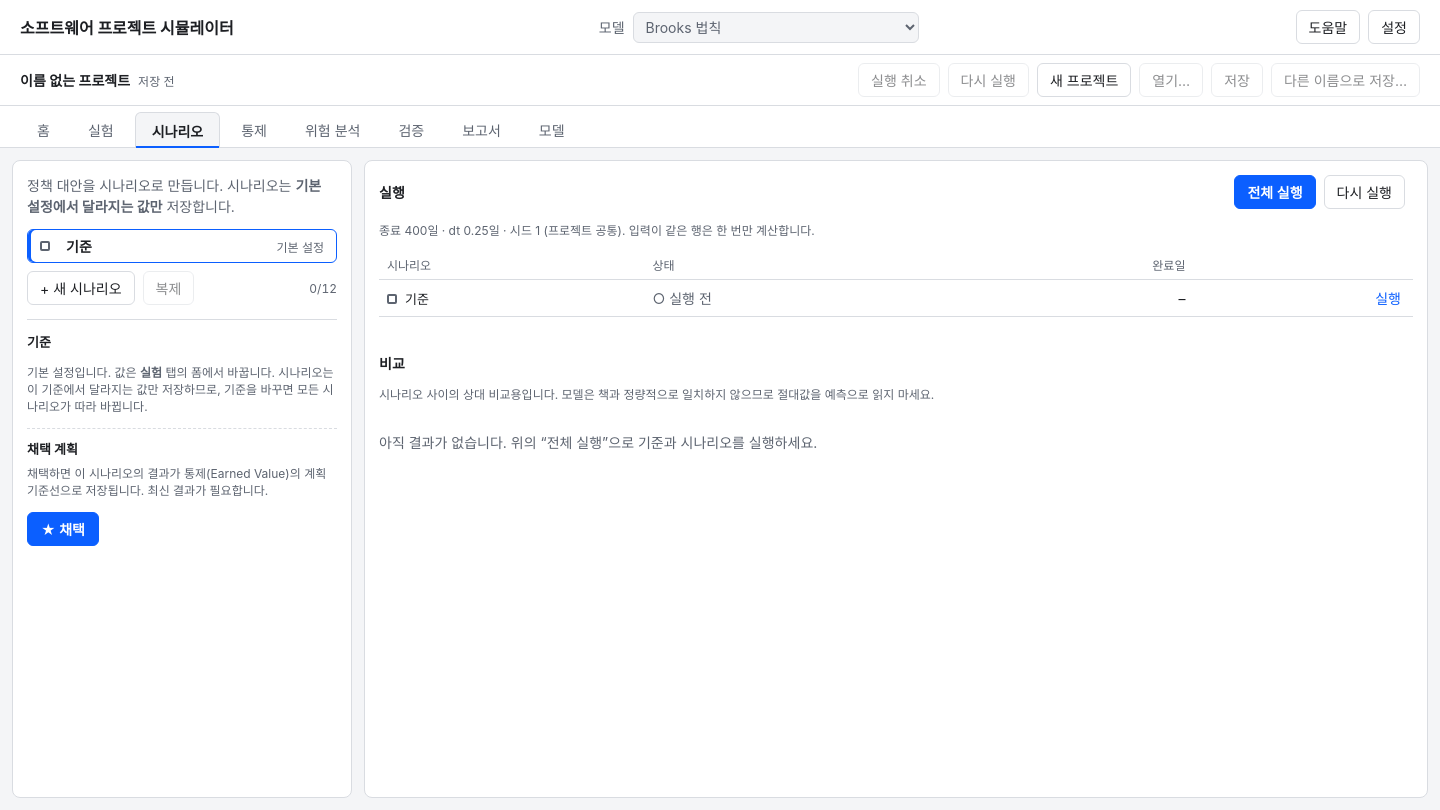
Test case: 모든 탭을 그려 본다 (화면 스모크) › 통제 탭이 오류 없이 그려진다
This screenshot has width=1440, height=810.
Step 1. Click the tab "통제" → (254, 130), box [224,112,284,147]
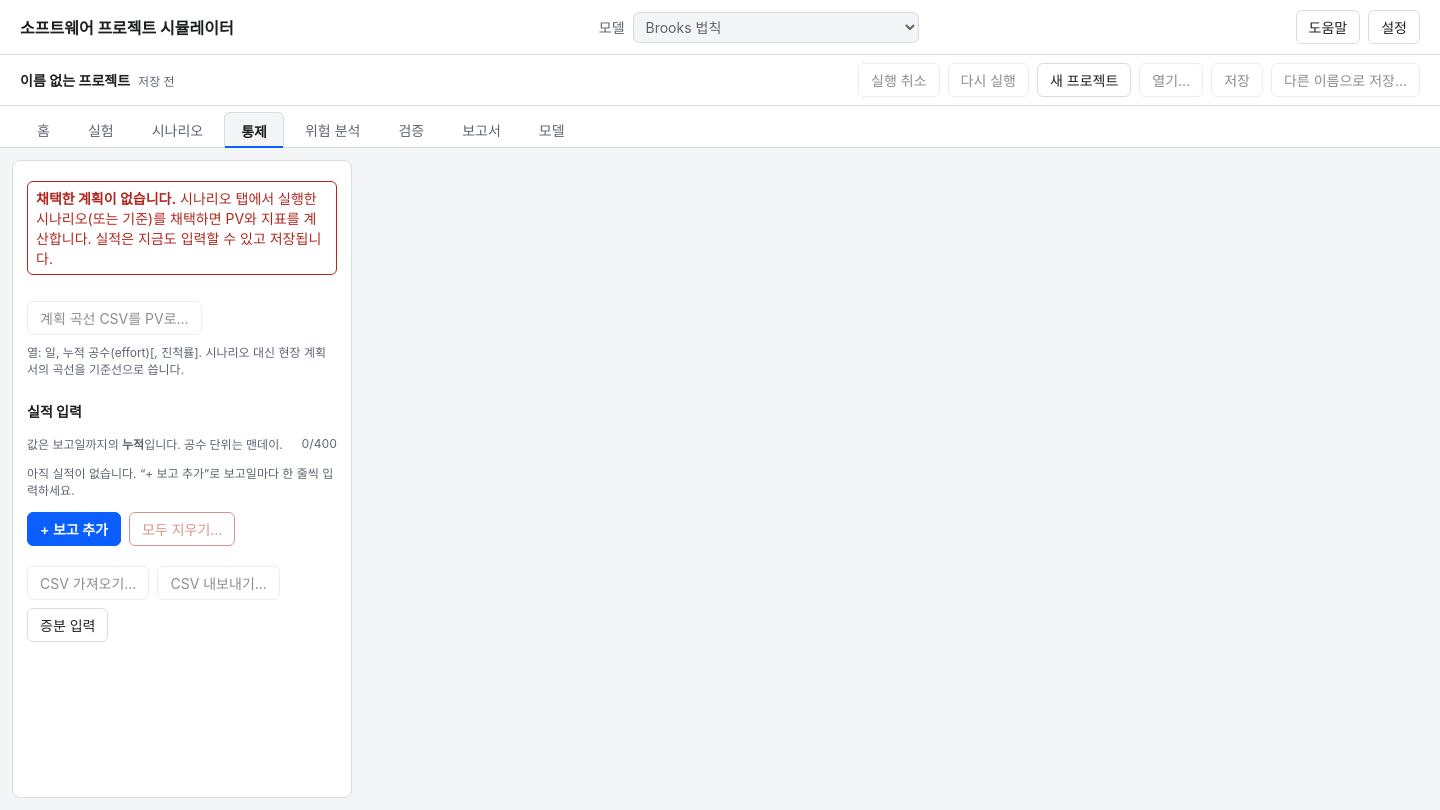
Expected: the panel is shown, [12,160,352,798]
